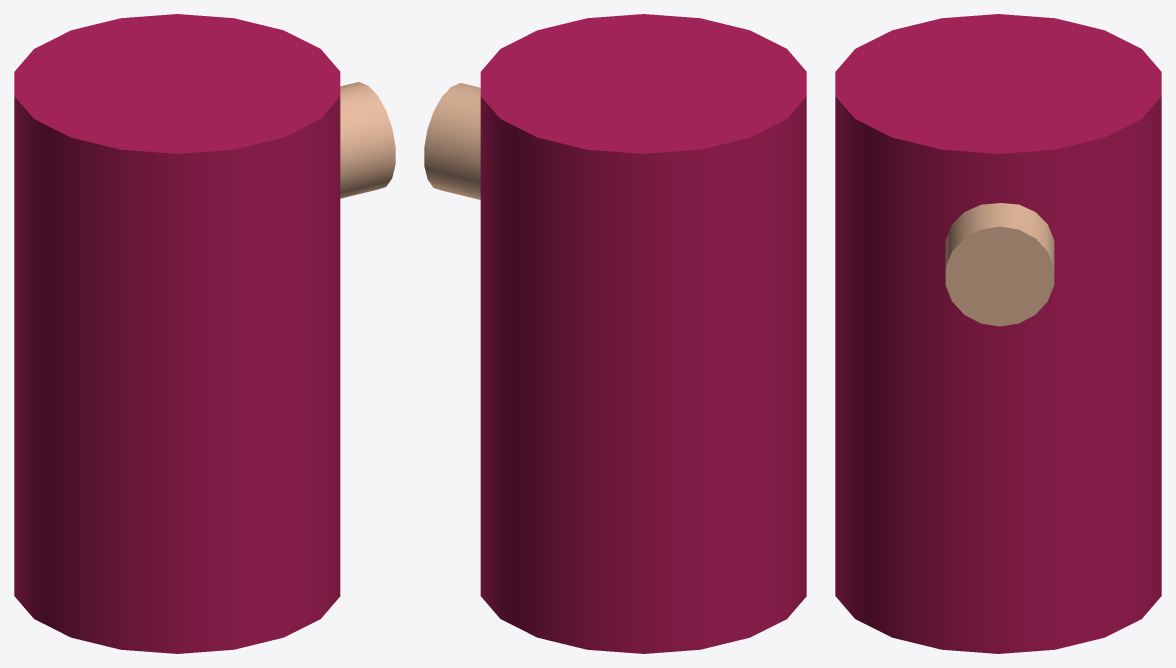
The model's file is ray.DAE.
3 renders of one model, left to right at view 1: azimuth 30°, elevation 25°; view 2: azimuth 150°, elevation 25°; view 3: azimuth 270°, elevation 25°, orthographic.
Visible parts, largest first — view 1: Cylinder01, Cylinder02; view 2: Cylinder01, Cylinder02; view 3: Cylinder01, Cylinder02.
Boxes of the visible parts, bbox=[...] form: Cylinder01: bbox=[14, 14, 340, 653]; Cylinder02: bbox=[340, 82, 395, 198]; Cylinder01: bbox=[480, 14, 806, 653]; Cylinder02: bbox=[424, 83, 480, 199]; Cylinder01: bbox=[835, 14, 1161, 653]; Cylinder02: bbox=[945, 203, 1054, 326].
Size of the model in its own units: 70.11 by 59.09 by 100.
